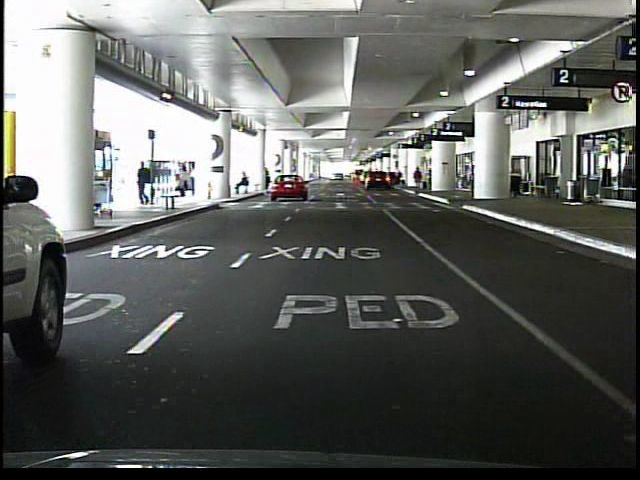person: (138, 160, 154, 207), (233, 172, 251, 195), (467, 162, 477, 200), (413, 166, 424, 193)
